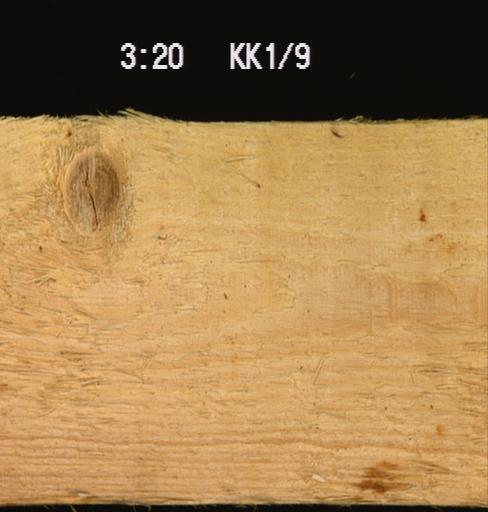sound_knot: (52, 117, 126, 253)
